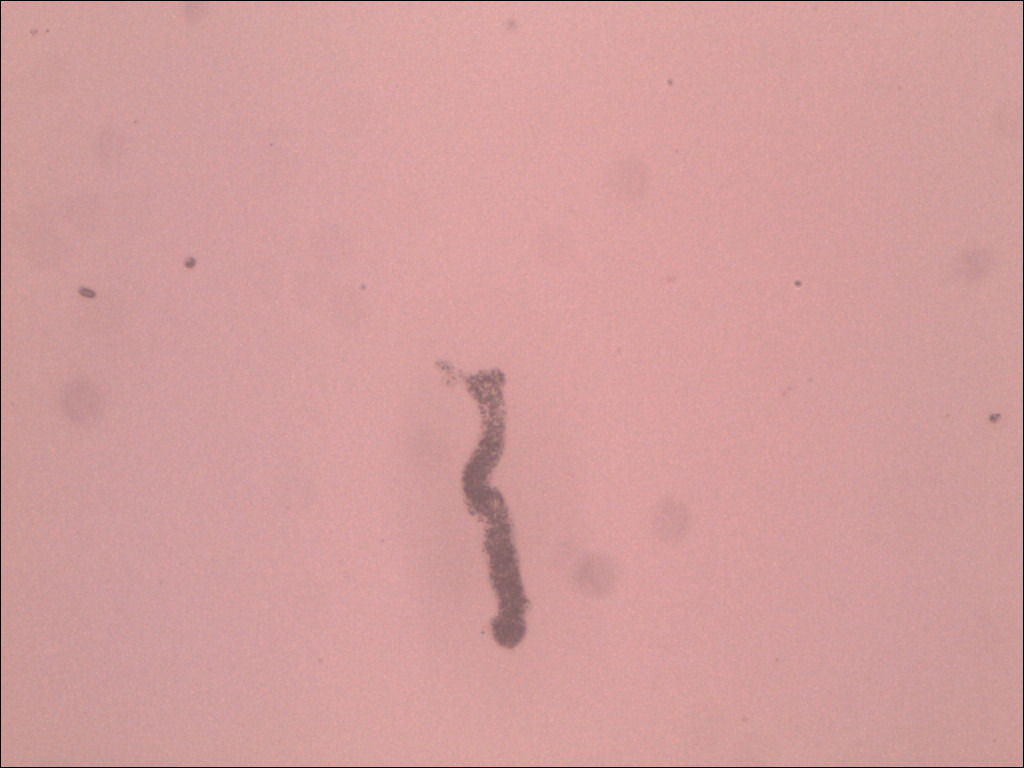amoeba: (428, 351, 561, 661)
